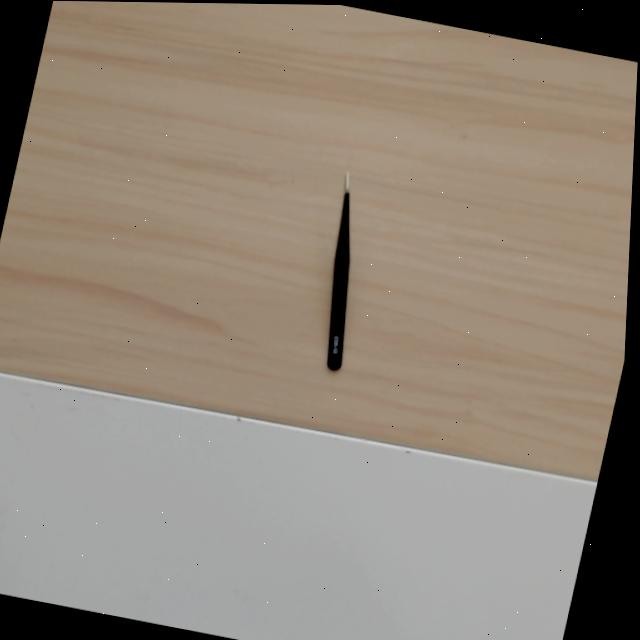Tweezers: (322, 171, 356, 371)
